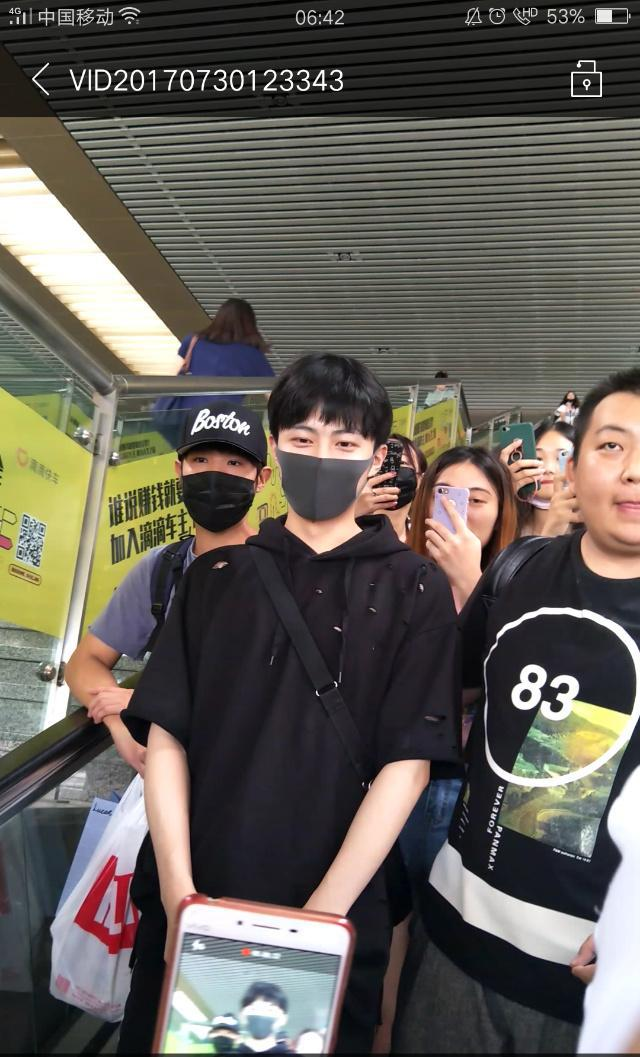NONE: (582, 424, 640, 556), (527, 440, 592, 505)
OK: (273, 419, 377, 523), (423, 476, 516, 569), (176, 445, 263, 532), (371, 454, 423, 509)
